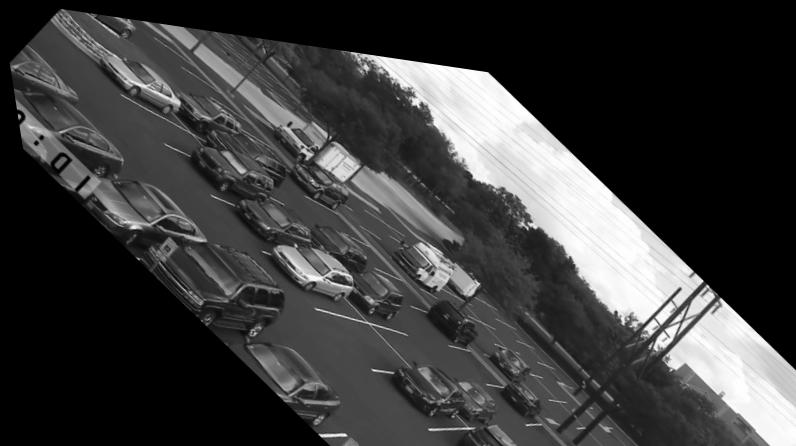empty: (306, 298, 398, 354), (120, 96, 198, 143), (159, 33, 216, 84), (511, 407, 567, 446), (304, 190, 355, 229), (185, 67, 235, 105), (345, 227, 392, 266), (307, 423, 378, 446), (443, 336, 490, 369), (379, 323, 433, 350), (227, 103, 266, 137), (364, 202, 405, 234), (379, 262, 418, 294), (268, 178, 304, 209), (563, 412, 601, 441), (534, 382, 572, 410), (460, 303, 494, 331), (495, 420, 530, 446), (436, 278, 471, 304), (550, 386, 584, 411), (528, 361, 560, 385), (576, 410, 606, 435), (481, 311, 511, 336), (459, 287, 489, 311), (507, 338, 538, 360), (518, 361, 547, 384), (532, 349, 565, 369), (594, 410, 622, 432), (472, 286, 500, 307), (509, 328, 539, 347), (610, 428, 639, 446), (491, 308, 518, 326), (464, 313, 484, 337), (526, 383, 544, 401), (599, 431, 620, 446), (591, 438, 607, 446)
occupied: (123, 237, 274, 325), (57, 169, 203, 236), (210, 335, 341, 409), (11, 88, 118, 172), (262, 234, 346, 299), (96, 52, 178, 110), (185, 140, 269, 194), (376, 351, 454, 407), (224, 192, 303, 240), (8, 41, 73, 98), (283, 144, 344, 202), (215, 124, 282, 175), (384, 229, 448, 279), (304, 213, 366, 264), (411, 287, 469, 336), (437, 410, 512, 446), (344, 261, 396, 311), (176, 87, 238, 126), (487, 366, 532, 404), (446, 369, 485, 410), (480, 330, 521, 369), (88, 10, 135, 35)
